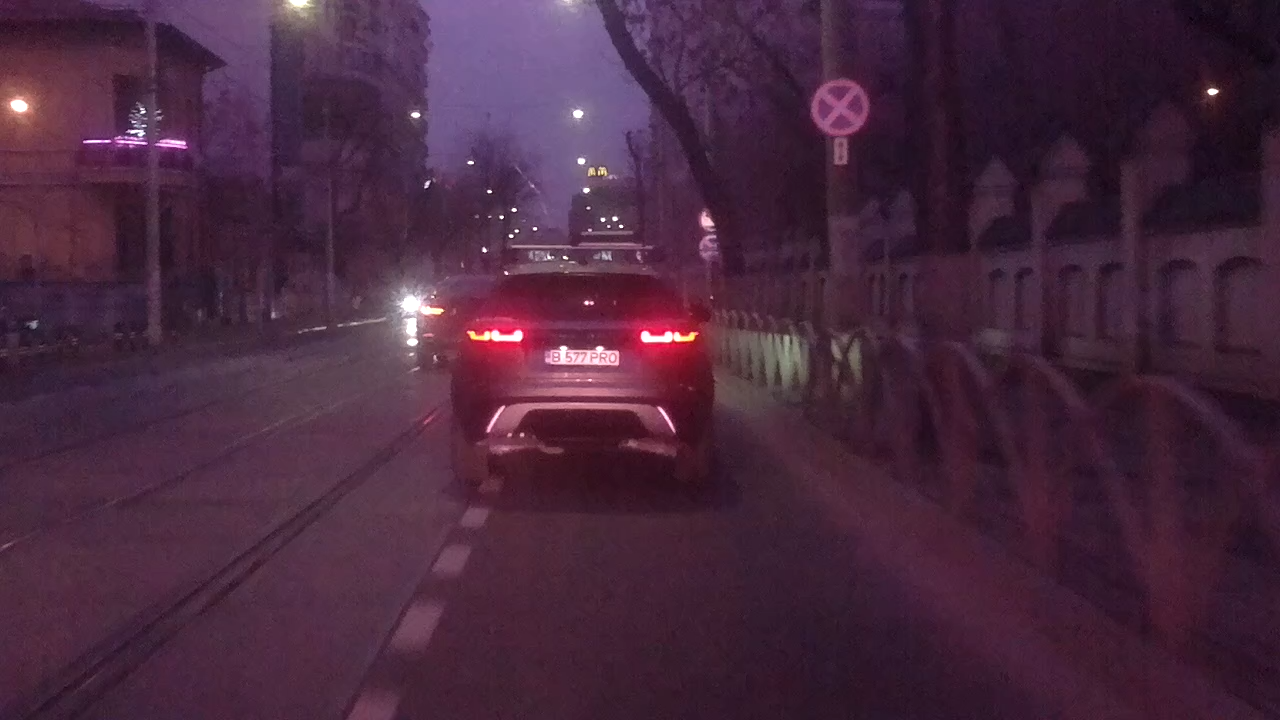license-plate: (541, 347, 623, 368)
